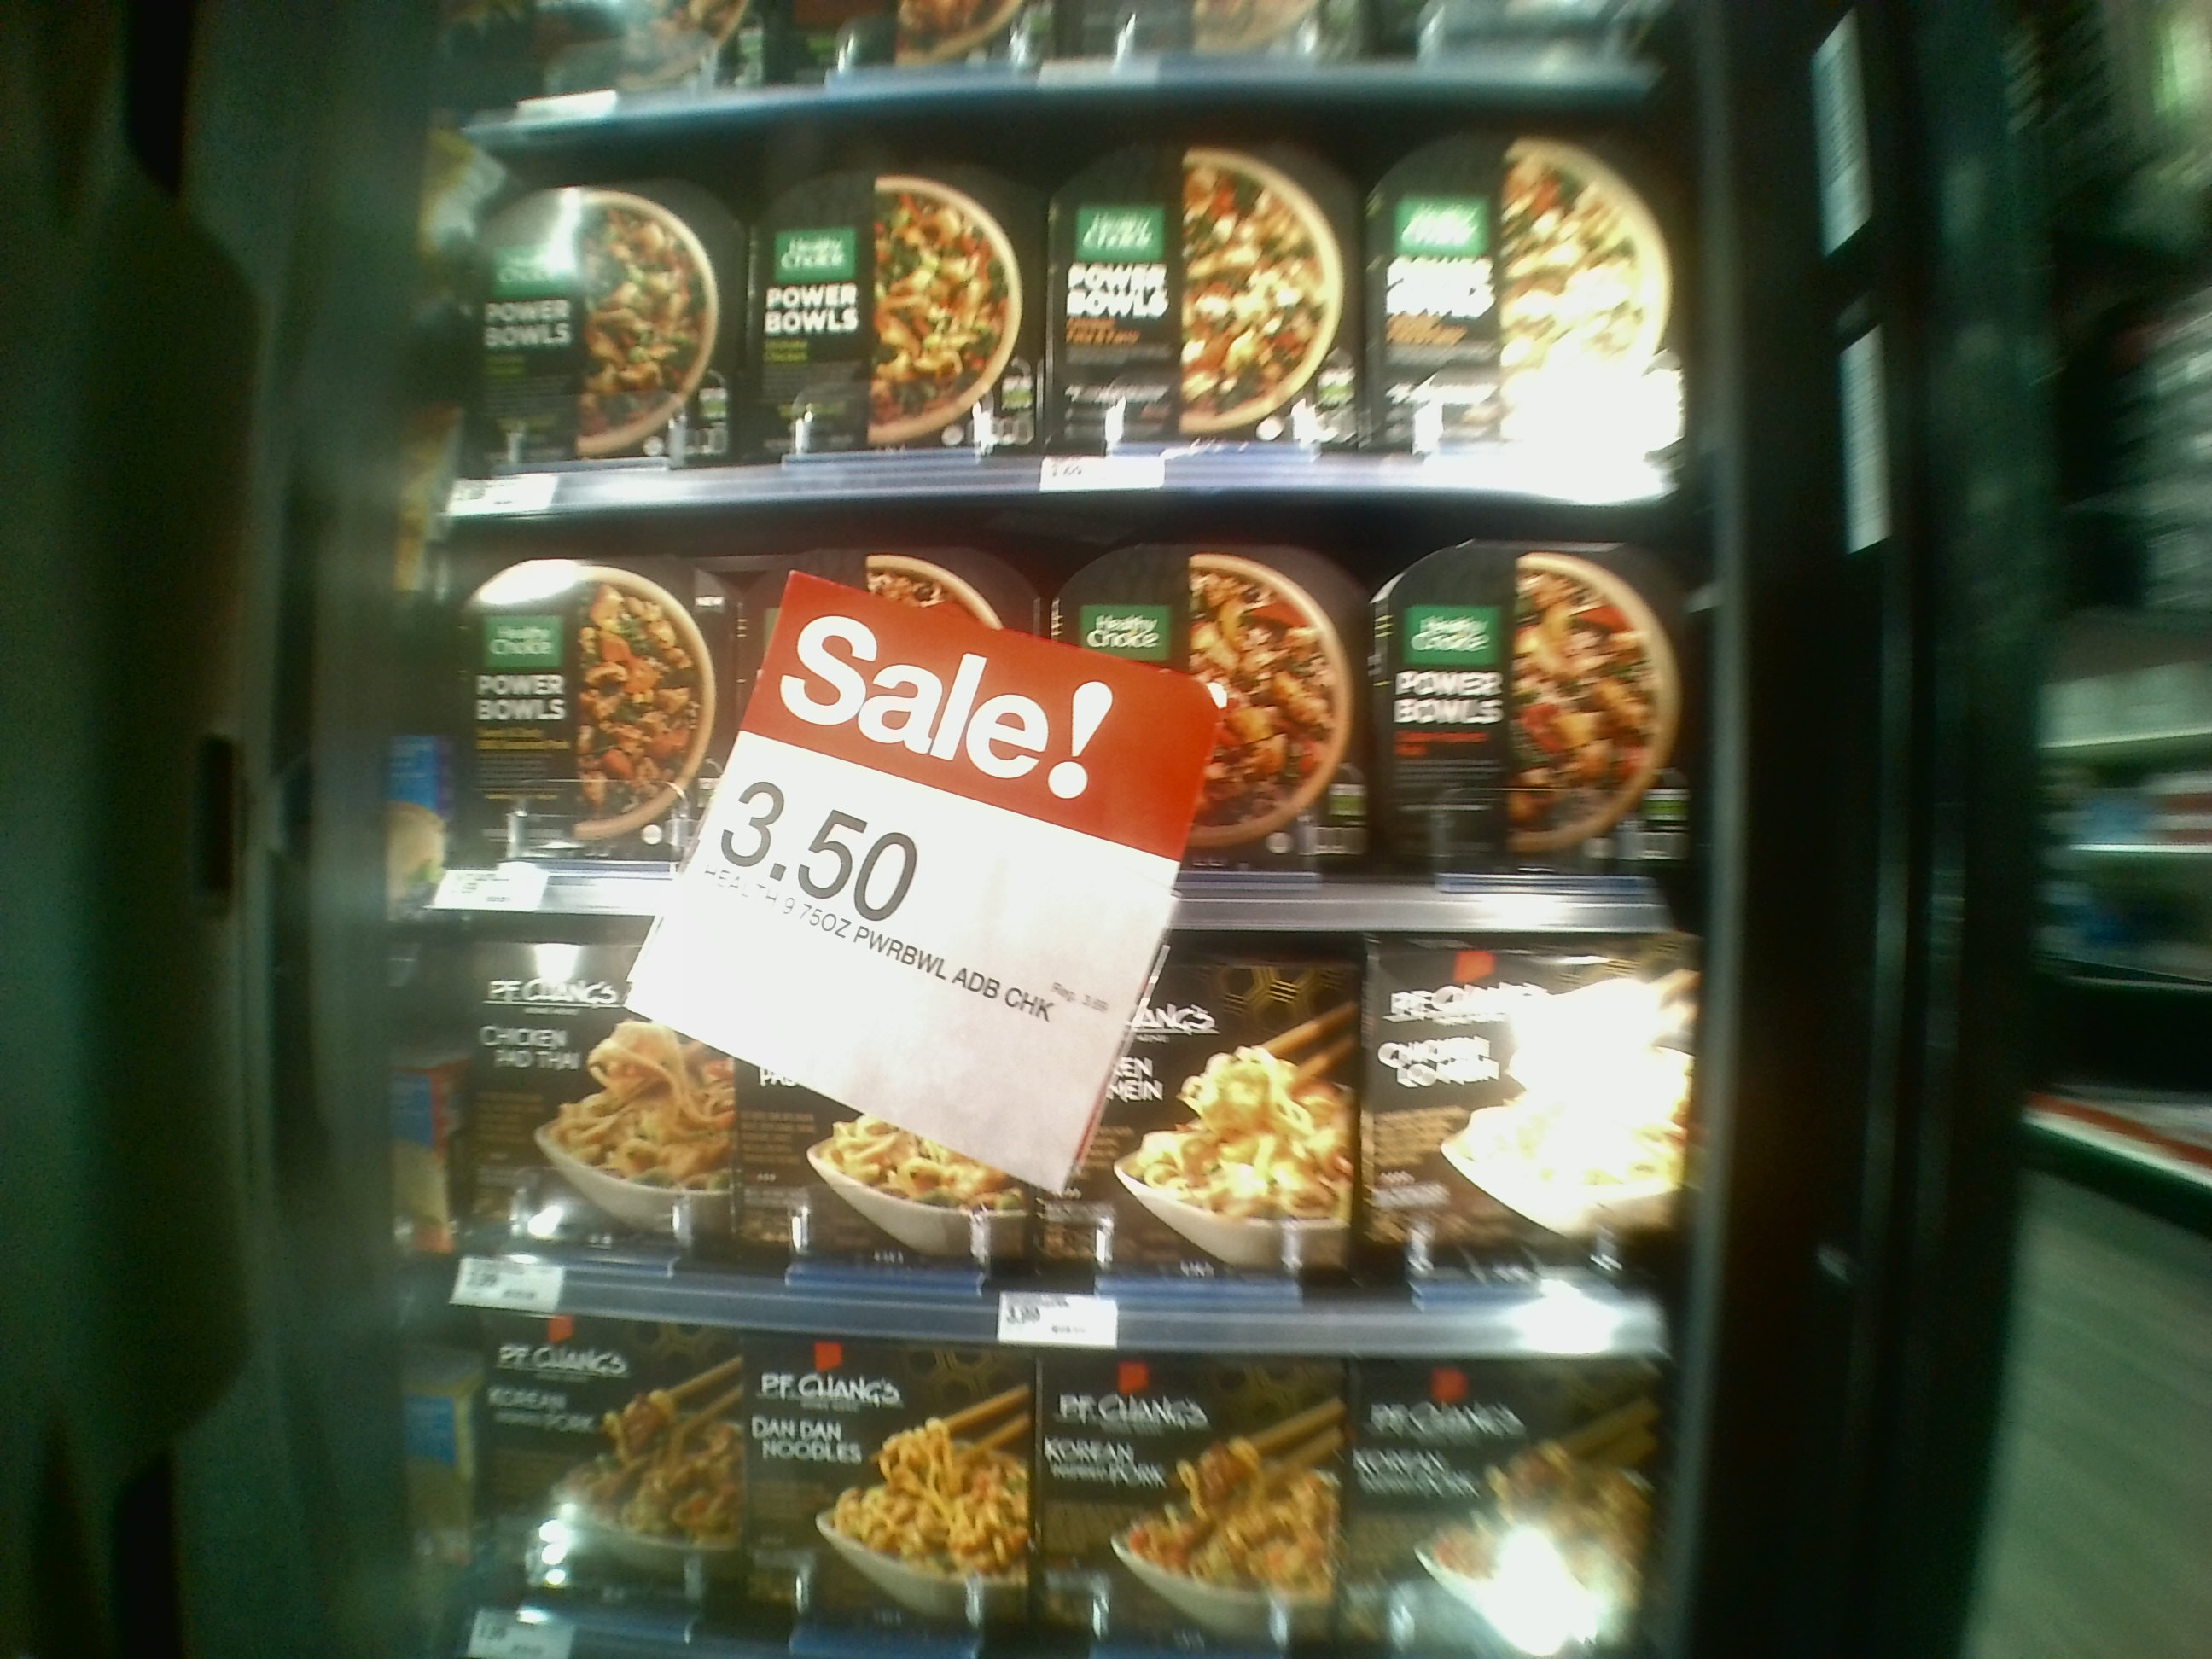shelf: (427, 490, 1686, 943)
